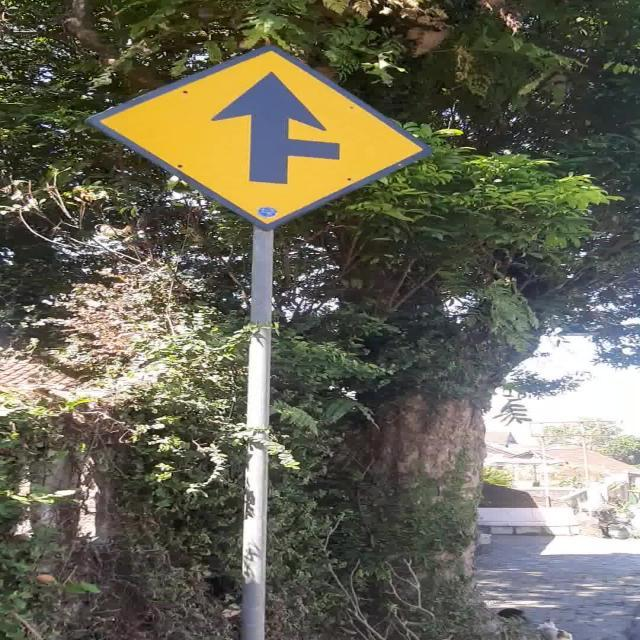Persimpangan 3 Prioritas Kanan: (85, 46, 432, 230)
